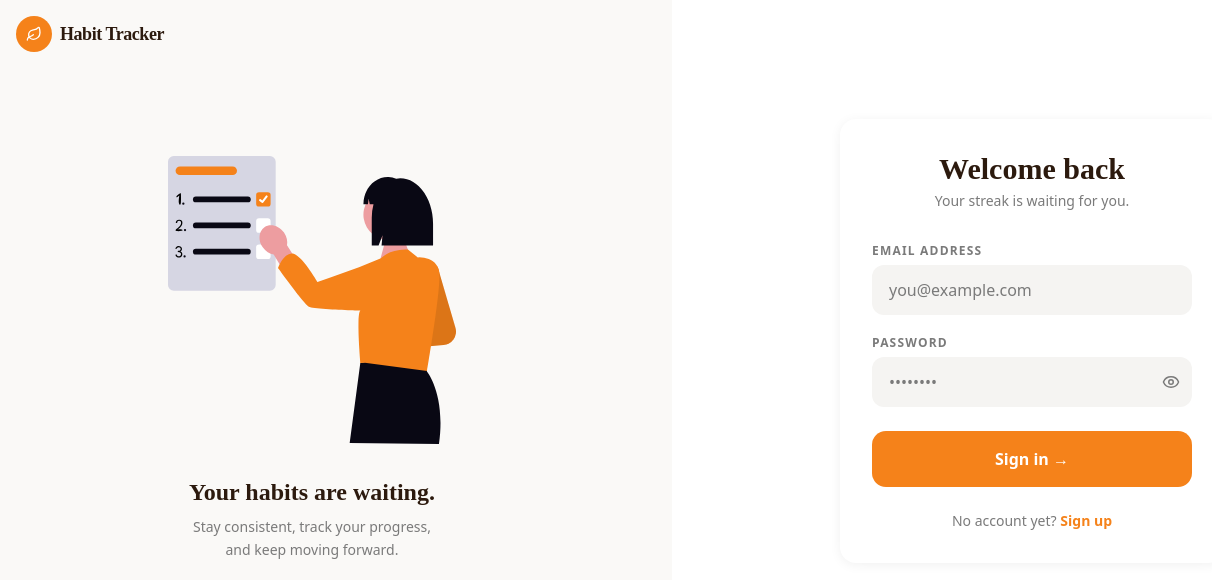
Test case: auth flow › shows an error for invalid login credentials
Type "nobody@test.com" into the field with test id "auth-login-email".
click(1032, 290); type("nobody@test.com")  # box x1=872 y1=265 x2=1192 y2=315
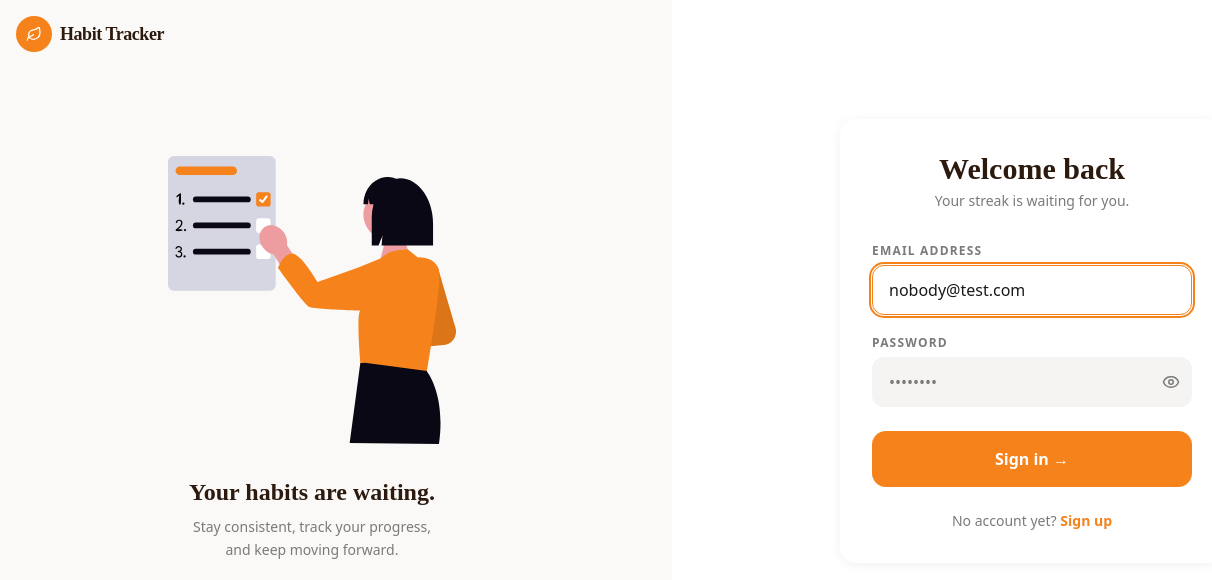
Type "WrongPass1" into the password field with test id "auth-login-password".
click(1032, 382); type("WrongPass1")  # box x1=872 y1=357 x2=1192 y2=407
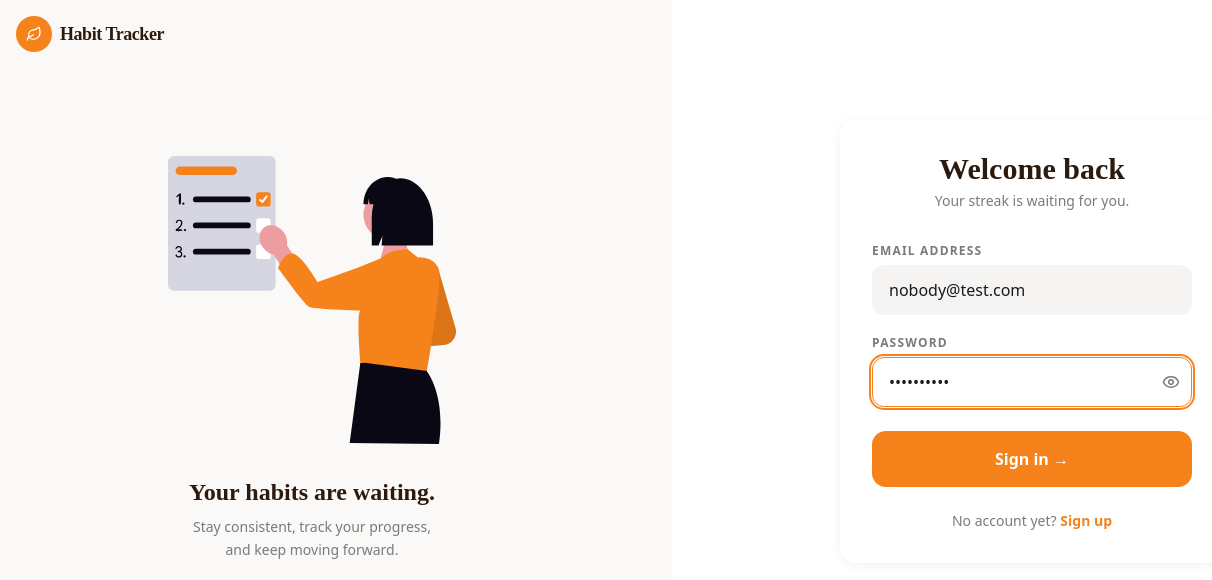
Click the button with test id "auth-login-submit".
click(1032, 459)  # box x1=872 y1=431 x2=1192 y2=487
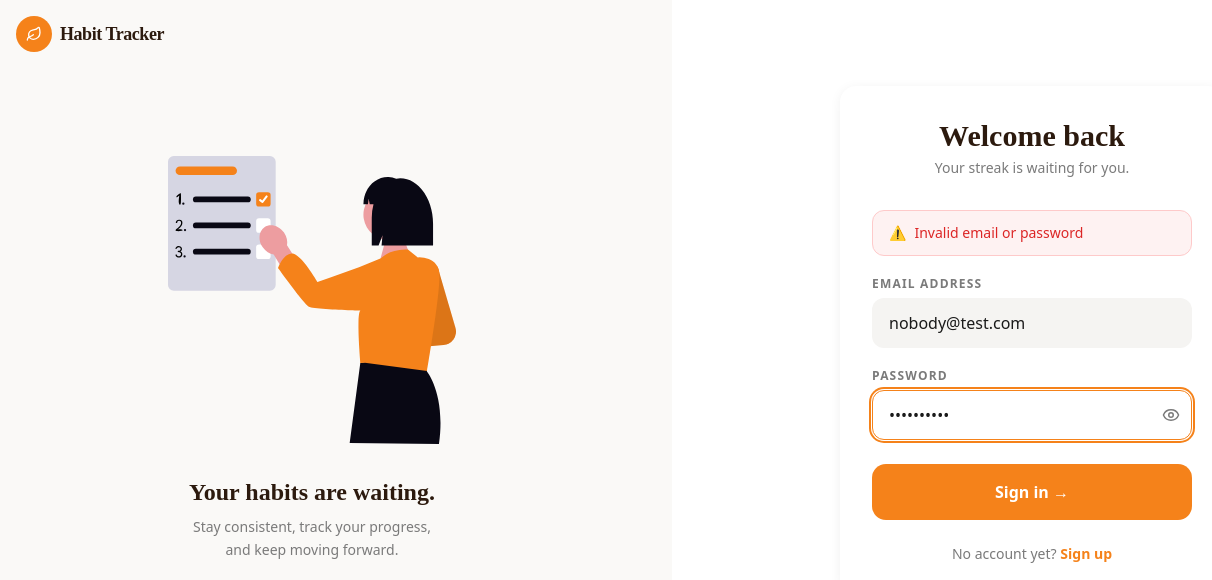
Check: the message shows "Invalid email or password", box x1=914 y1=223 x2=1083 y2=242
